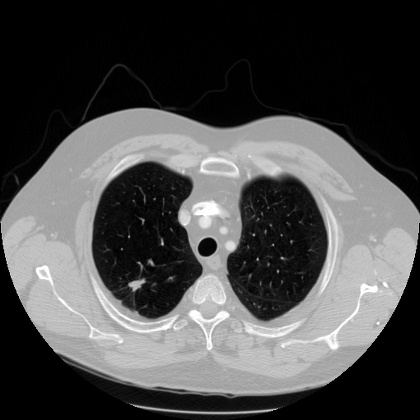PN: (129, 274, 145, 290)
